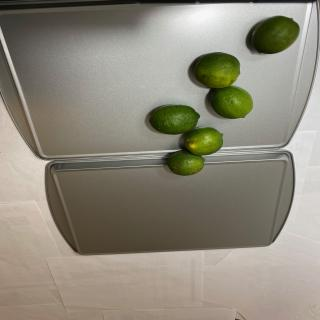Apple: (251, 16, 300, 54)
Lemon: (193, 52, 240, 88), (149, 104, 200, 135), (210, 85, 253, 119), (184, 126, 223, 156), (167, 150, 205, 176)
